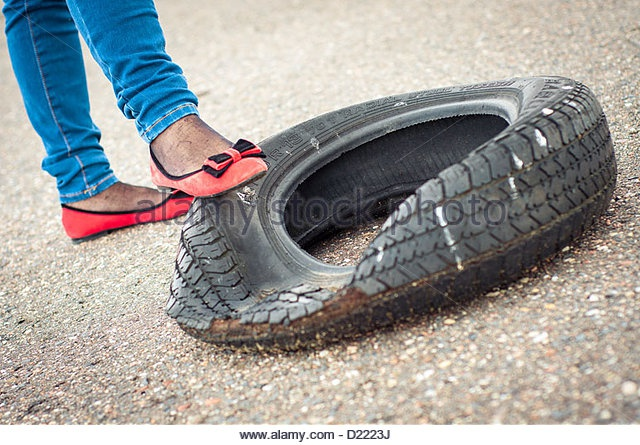tire: (167, 71, 619, 357)
